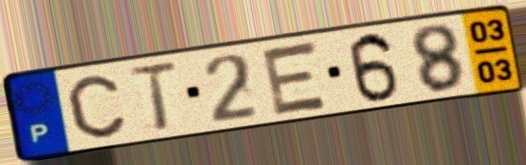2: (201, 52, 260, 127)
6: (345, 29, 402, 104)
8: (406, 21, 467, 95)
C: (64, 72, 129, 141)
E: (258, 38, 332, 119)
T: (124, 58, 182, 135)
